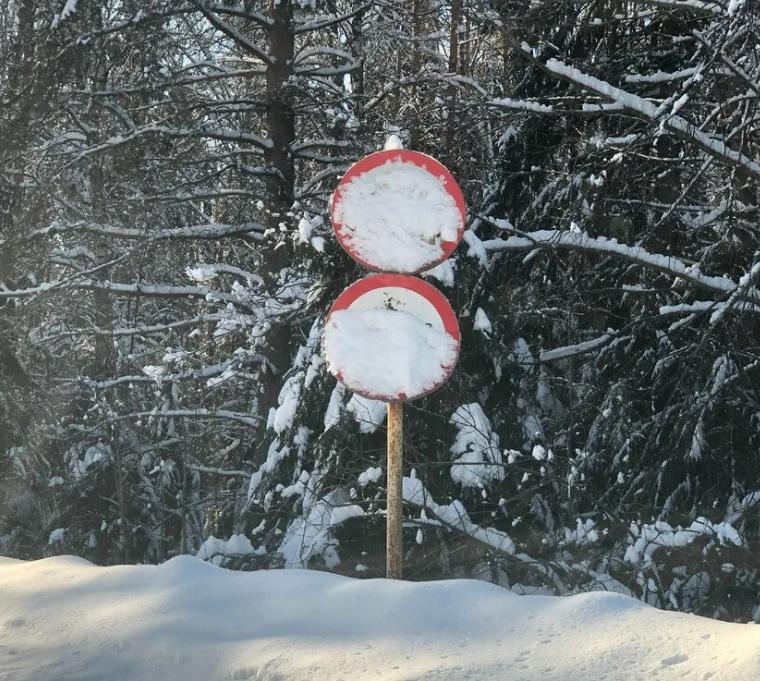obstructed_road_sign: (322, 274, 460, 403), (331, 148, 466, 274)
